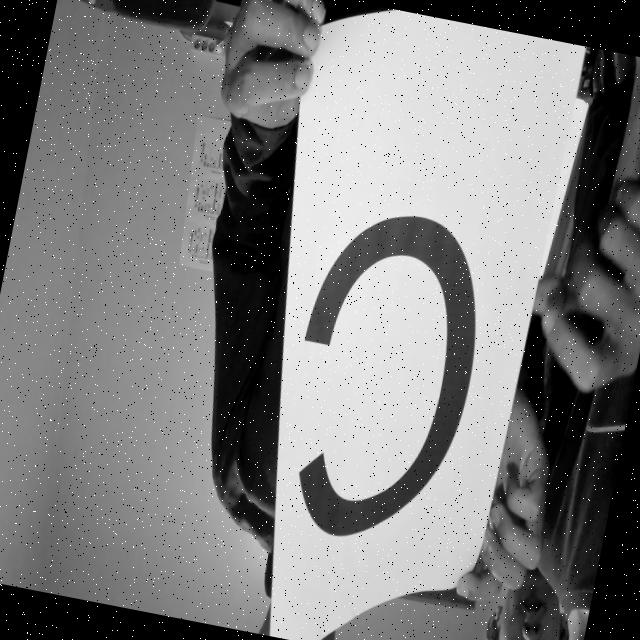c: (248, 180, 510, 586)
